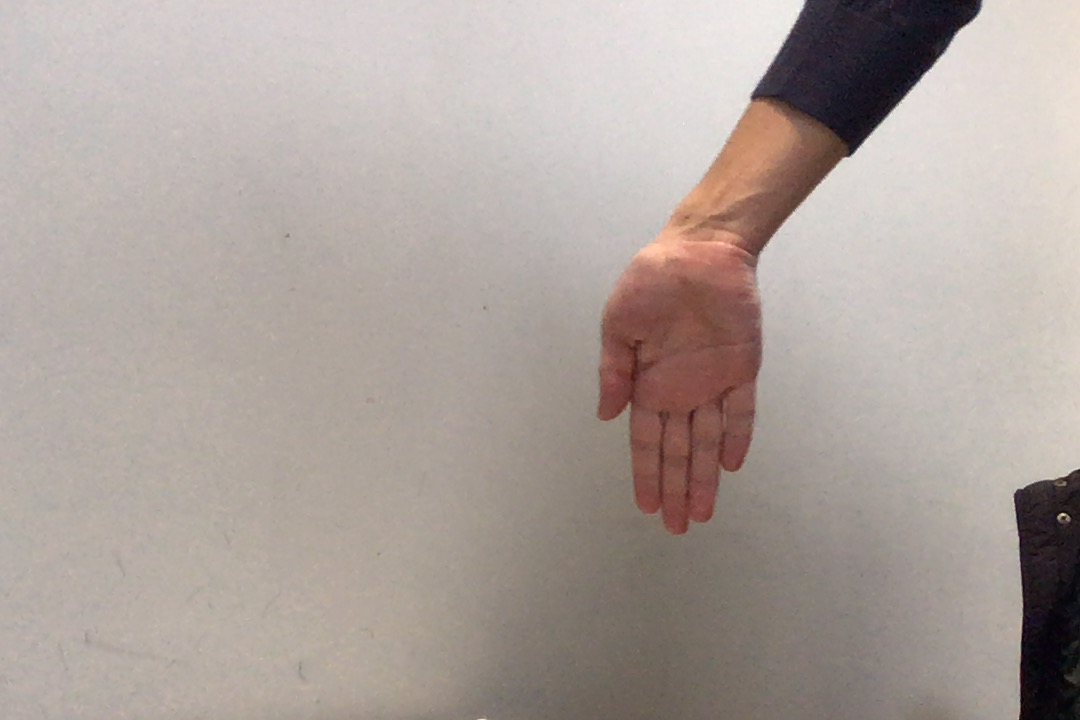palmhand: (592, 241, 769, 541)
